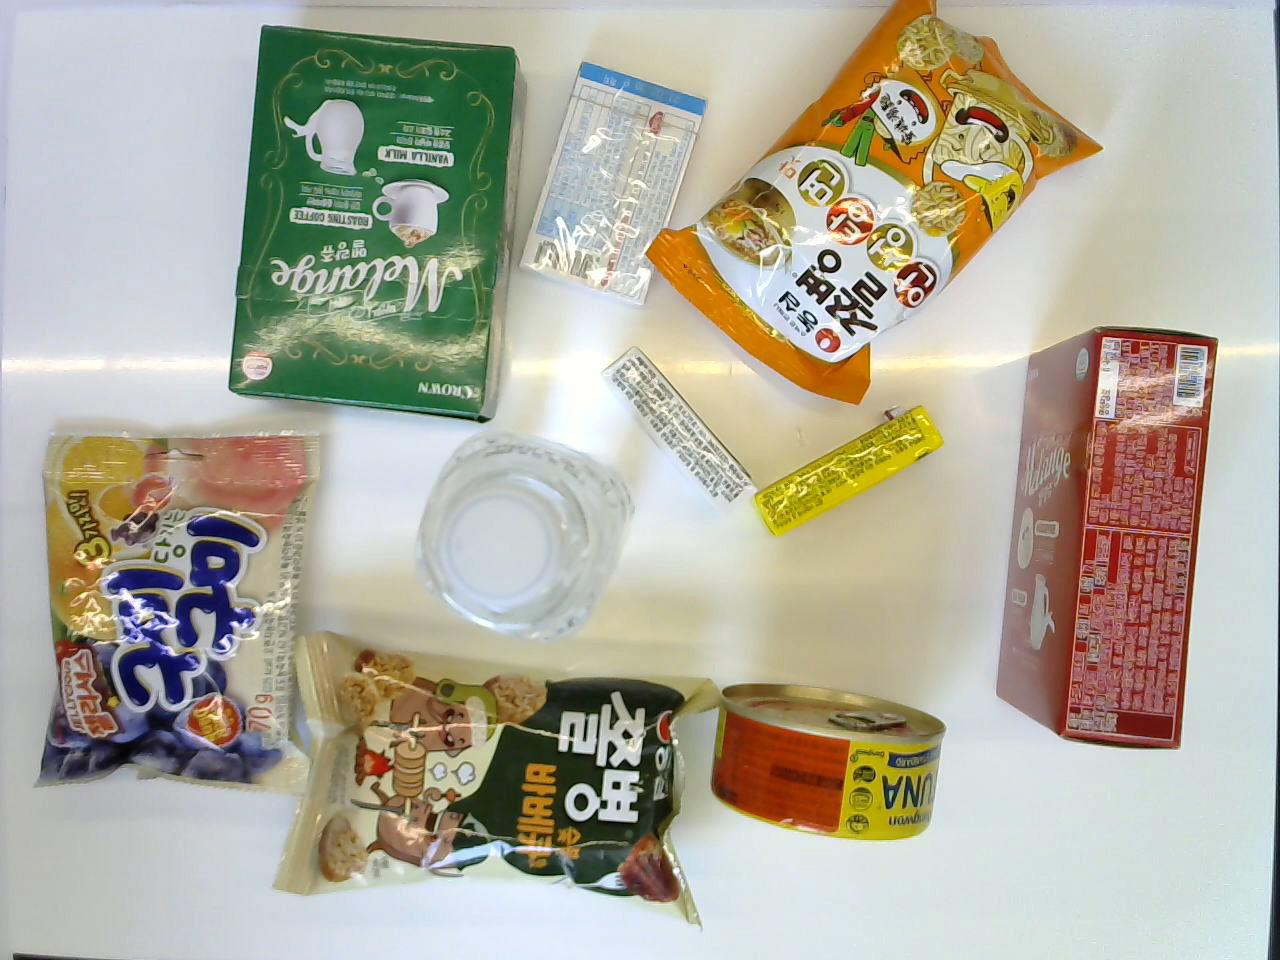ID_gum: (517, 57, 707, 310)
couque_coffee: (225, 21, 526, 425)
couque_white: (998, 326, 1219, 752)
gumi_gumi: (30, 418, 330, 792)
jjolbyung_noodle: (646, 1, 1104, 411)
jjolbyung_ori: (277, 628, 719, 933)
juicyfresh: (753, 404, 944, 538)
samdasu: (410, 426, 632, 646)
spearmint: (599, 344, 758, 517)
tuna: (705, 683, 947, 840)
